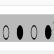correct: (16, 23, 24, 41), (44, 23, 52, 40)
no answer: (2, 23, 10, 41), (30, 23, 38, 41)
